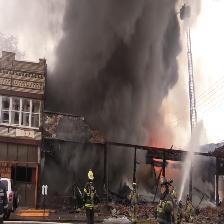fire: (140, 123, 180, 190)
